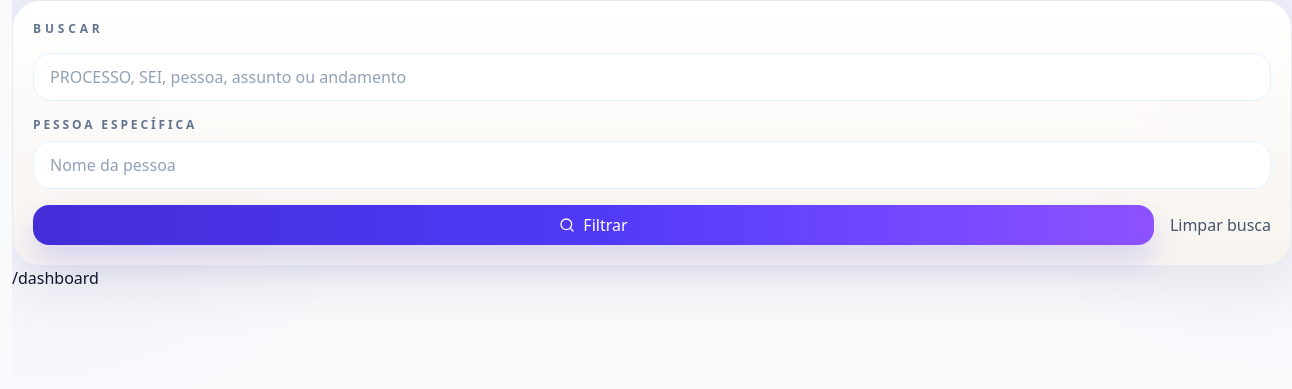
Scenario: QuickProcessSearch › navega para a lista filtrada por pessoa selecionada
Type "Maria" into the field named "Buscar pessoa especifica".
click(652, 165); type("Maria")  # box x1=33 y1=141 x2=1271 y2=189
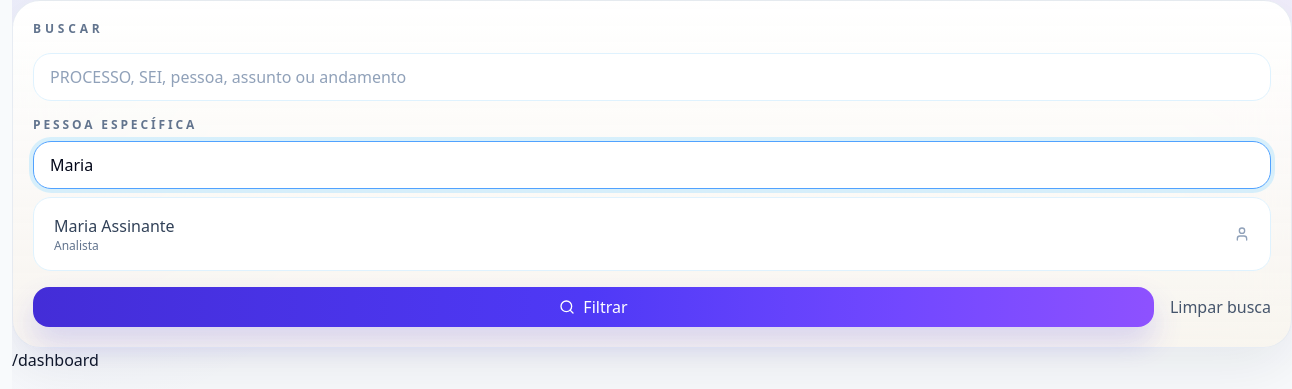
Click the button "Maria Assinante Analista".
click(114, 226)  # box x1=42 y1=206 x2=1262 y2=262
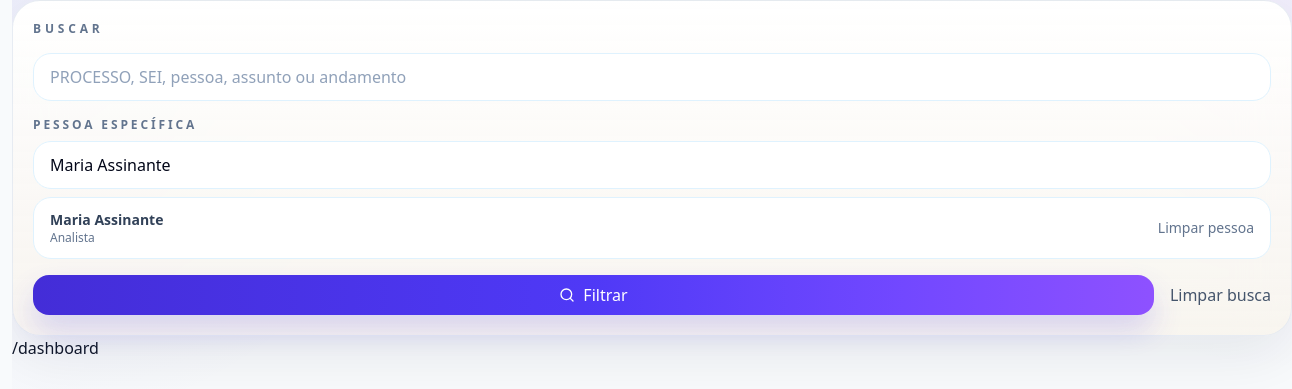
Click the button "Filtrar".
click(593, 295)  # box x1=33 y1=275 x2=1154 y2=315
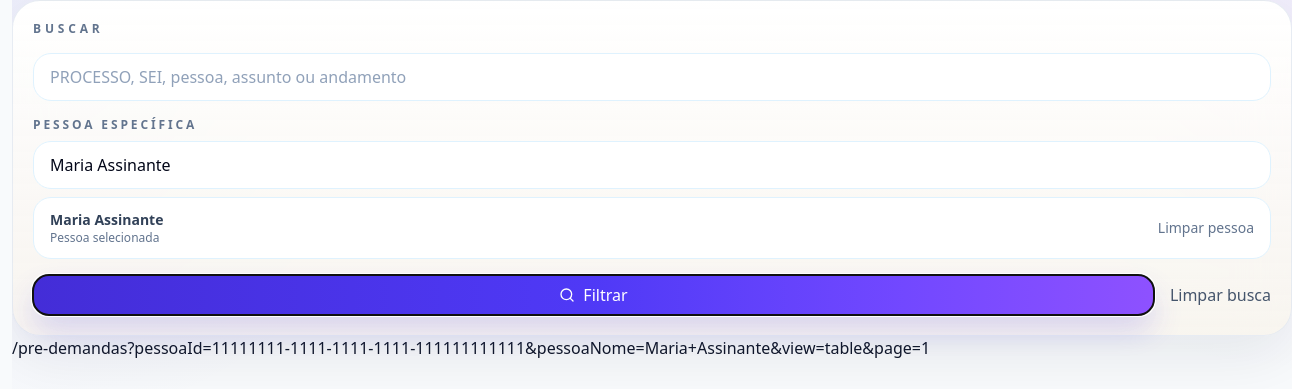
Expected: the text with test id "location" shows "/pre-demandas?pessoaId=11111111-1111-1111-1111-111111111111&pessoaNome=Maria+Assinante&view=table&page=1", x1=12 y1=337 x2=930 y2=359
